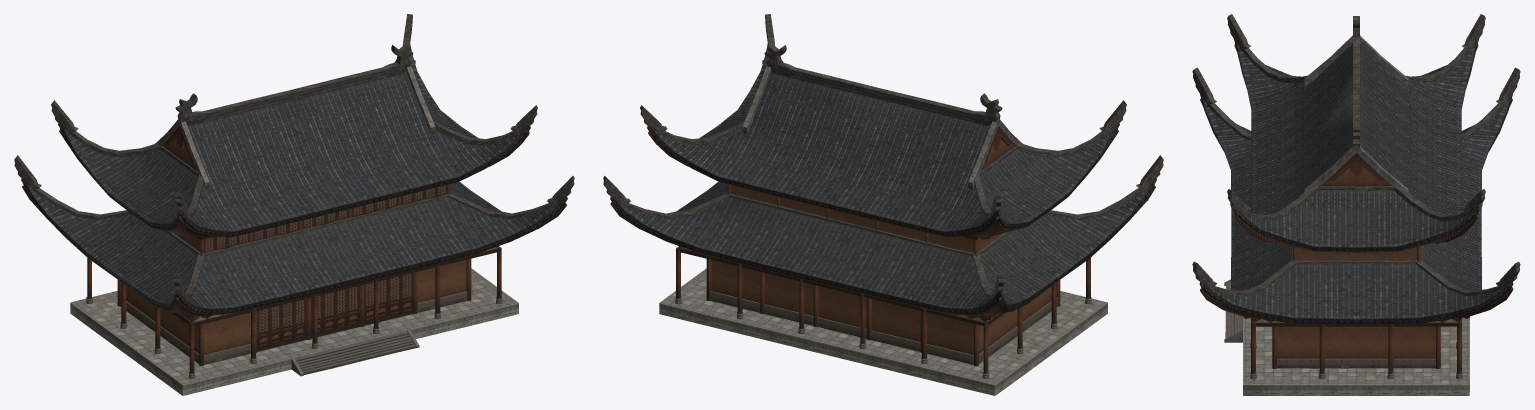
File: pavilion.glb
The picture shows the model from 3 angles, left to right: view 1: azimuth 30°, elevation 25°; view 2: azimuth 150°, elevation 25°; view 3: azimuth 270°, elevation 25°; orthographic projection.
Parts seen in each view (by area): view 1: HZ_building_026_1_Material.032_0; view 2: HZ_building_026_1_Material.032_0; view 3: HZ_building_026_1_Material.032_0.
Boxes of the visible parts, left/top/right/bottom form: HZ_building_026_1_Material.032_0: left=14, top=14, right=574, bottom=395; HZ_building_026_1_Material.032_0: left=603, top=14, right=1163, bottom=395; HZ_building_026_1_Material.032_0: left=1192, top=14, right=1520, bottom=395.
Bounding box in the file's own units: 10.44 × 6.06 × 7.35.
2 materials, 2 textured.
